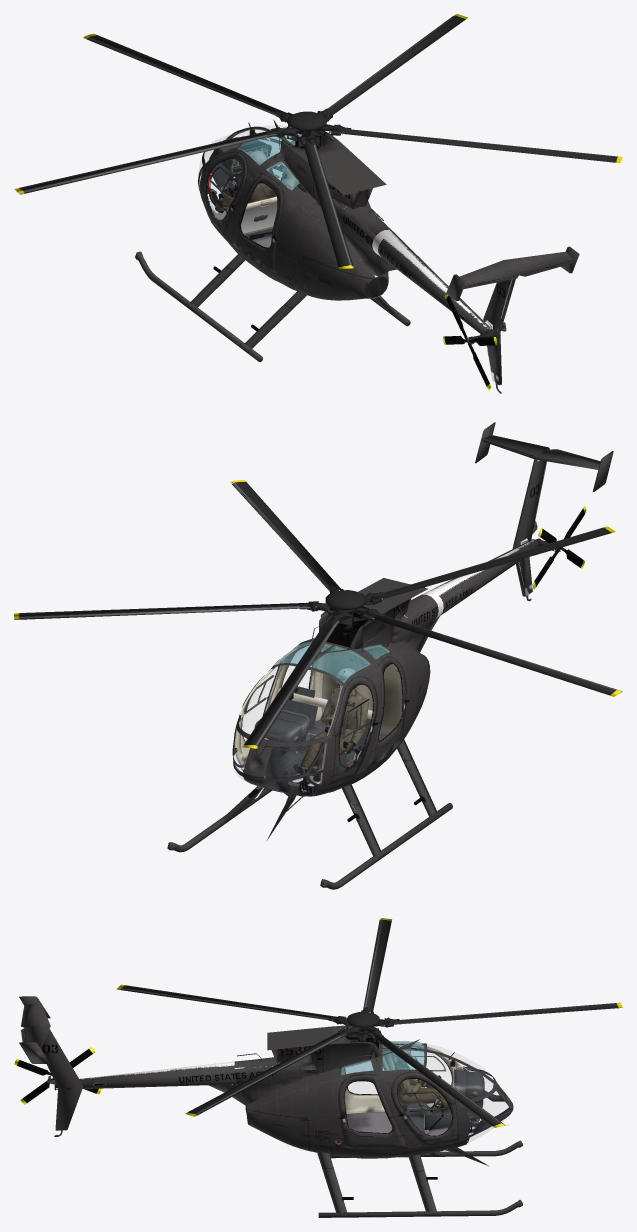
The picture shows the model from 3 angles, top to bottom: view 1: azimuth 30°, elevation 25°; view 2: azimuth 150°, elevation 25°; view 3: azimuth 270°, elevation 25°; orthographic projection. The views are drawn at different scales.
Parts seen in each view (by area): view 1: ext_fuse1, rotor_main, ext_fuse1_doors, ext_skids, glasss_grn, int_seats2, int_pilotR, rotor_tail, int_console, int_fuse2; view 2: ext_fuse1, rotor_main, ext_fuse1_doors, ext_skids, int_fuse5, int_pilotR, int_console, glasss_grn, int_fuse1, int_seats2, glass, int_fuse2 (+1 smaller); view 3: ext_fuse1, rotor_main, ext_fuse1_doors, ext_skids, glass, int_console, glasss_grn, int_pilotR, int_fuse4, rotor_tail, int_fuse2, int_seats2 (+1 smaller).
Boxes of the visible parts, x1=… form: ext_fuse1: x1=198, y1=119, x2=579, y2=393; rotor_main: x1=14, y1=14, x2=622, y2=269; ext_fuse1_doors: x1=204, y1=152, x2=298, y2=273; ext_skids: x1=135, y1=251, x2=410, y2=362; glasss_grn: x1=238, y1=128, x2=301, y2=190; int_seats2: x1=241, y1=195, x2=277, y2=239; int_pilotR: x1=209, y1=150, x2=276, y2=221; rotor_tail: x1=443, y1=294, x2=497, y2=390; int_console: x1=206, y1=139, x2=271, y2=194; int_fuse2: x1=198, y1=128, x2=285, y2=197; ext_fuse1: x1=233, y1=422, x2=613, y2=840; rotor_main: x1=14, y1=480, x2=622, y2=748; ext_fuse1_doors: x1=241, y1=645, x2=409, y2=783; ext_skids: x1=167, y1=739, x2=452, y2=889; int_fuse5: x1=321, y1=646, x2=402, y2=734; int_pilotR: x1=293, y1=668, x2=369, y2=781; int_console: x1=254, y1=709, x2=324, y2=791; glasss_grn: x1=274, y1=638, x2=389, y2=682; int_fuse1: x1=234, y1=642, x2=389, y2=784; int_seats2: x1=278, y1=686, x2=372, y2=767; glass: x1=234, y1=666, x2=310, y2=781; int_fuse2: x1=232, y1=646, x2=341, y2=796; ext_fuse1: x1=19, y1=996, x2=513, y2=1166; rotor_main: x1=117, y1=918, x2=622, y2=1127; ext_fuse1_doors: x1=338, y1=1045, x2=458, y2=1149; ext_skids: x1=317, y1=1140, x2=522, y2=1217; glass: x1=348, y1=1044, x2=508, y2=1143; int_console: x1=424, y1=1069, x2=484, y2=1132; glasss_grn: x1=341, y1=1041, x2=424, y2=1074; int_pilotR: x1=394, y1=1043, x2=449, y2=1108; int_fuse4: x1=346, y1=1108, x2=448, y2=1135; rotor_tail: x1=14, y1=1047, x2=101, y2=1104; int_fuse2: x1=382, y1=1043, x2=511, y2=1136; int_seats2: x1=398, y1=1098, x2=431, y2=1133.
Bounding box in the file's own units: 7.48 × 2.89 × 9.2.
Materials: 11 (11 with a texture image).
